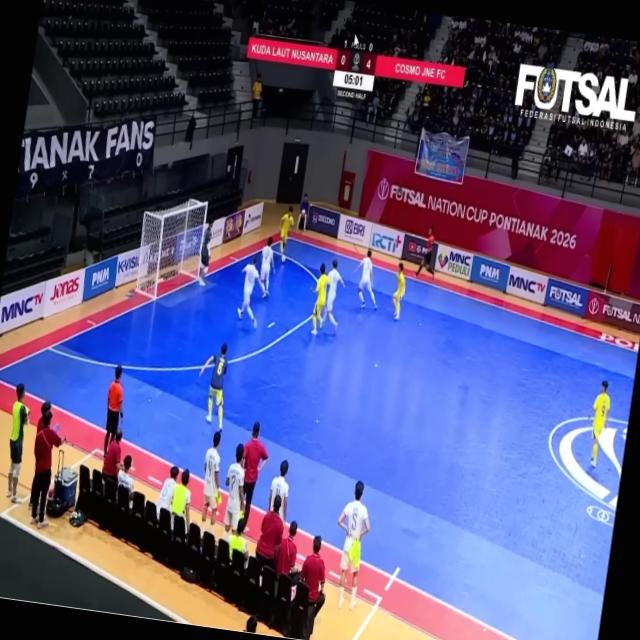keeper: (200, 344, 227, 430), (199, 221, 212, 286)
official: (31, 412, 65, 528), (243, 422, 268, 521), (301, 537, 325, 639), (256, 496, 283, 567), (102, 428, 122, 484)
players: (339, 482, 369, 609), (201, 432, 221, 535), (225, 444, 245, 538), (591, 381, 610, 468), (238, 255, 260, 328), (323, 260, 344, 329), (355, 250, 377, 309), (312, 265, 330, 335), (259, 237, 275, 298), (416, 228, 434, 276), (280, 207, 294, 262), (393, 263, 405, 320)
referee: (104, 365, 123, 458), (416, 228, 434, 276)
